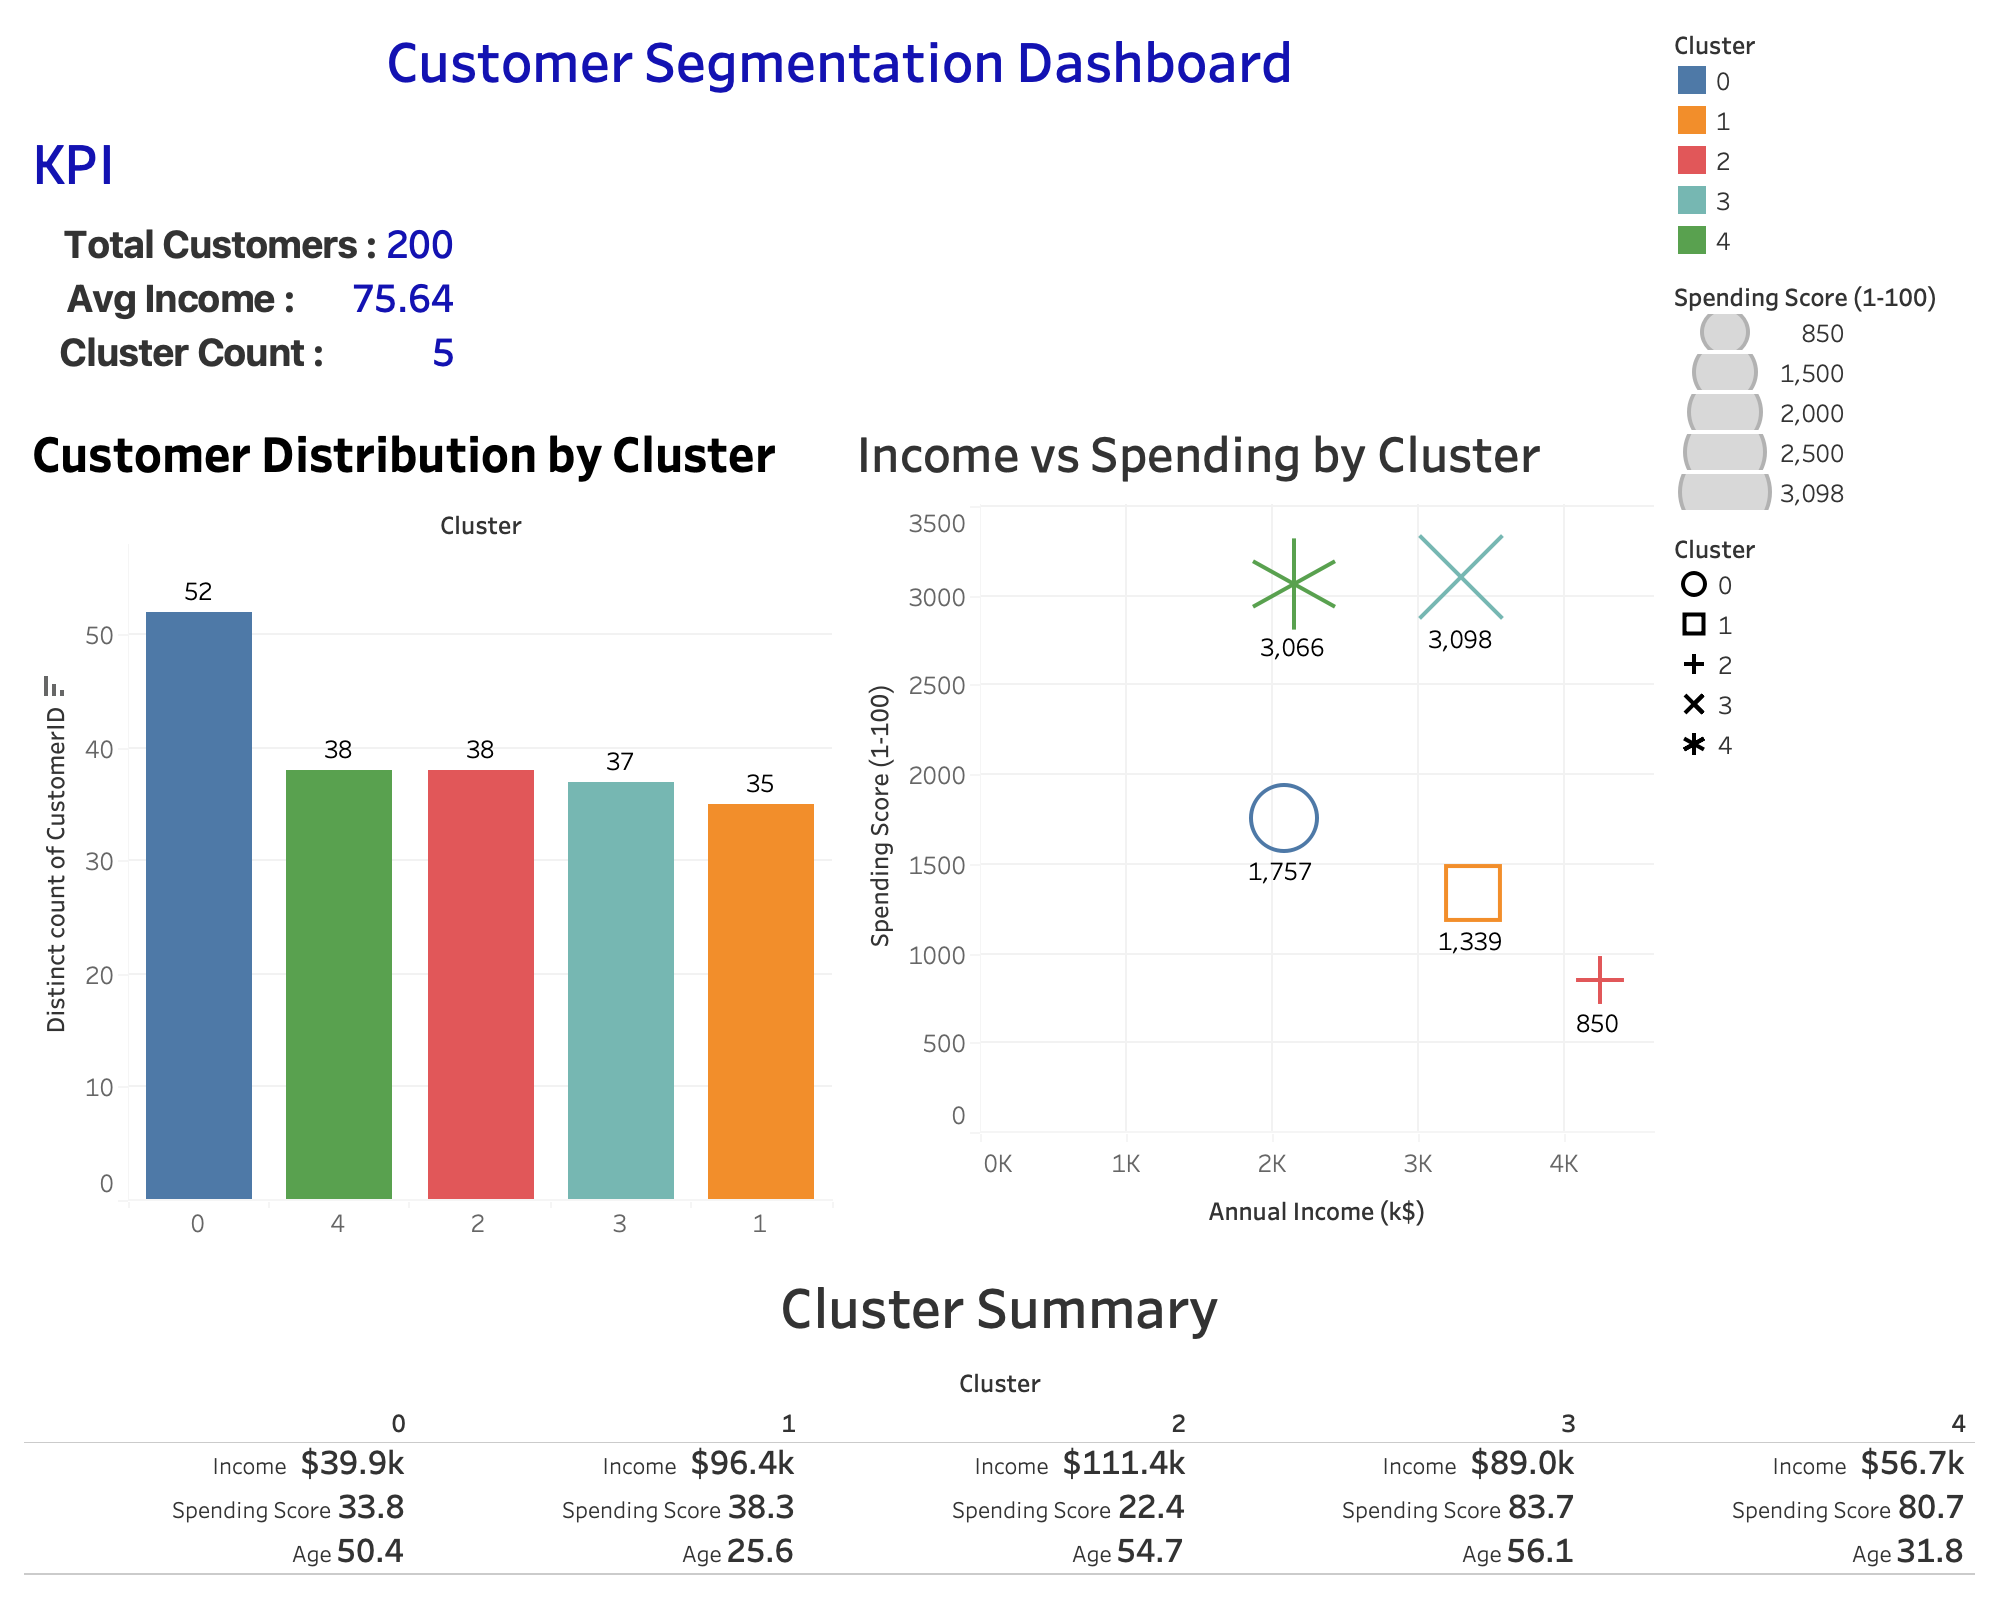

What the dashboard file says about the page in this screenshot:
{"tool":"tableau","page":{"name":"Customer Segmentation Dashboard   ","canvas":[1000,800],"ordinal":0},"visuals":[{"type":"title","box":[8,8,824,45]},{"type":"legend","title":"Cluster Distribution","param":"[federated.0gvg00q1c58z4c19fi03f1oa6vo8].[none:Cluster:ok]","box":[832,8,160,126]},{"type":"worksheet","title":"KPI","mark":"Automatic","box":[8,53,824,147]},{"type":"legend","title":"Income vs Spending by Cluster","param":"[federated.0gvg00q1c58z4c19fi03f1oa6vo8].[sum:Spending Score (1-100):qk]","box":[832,134,160,126]},{"type":"worksheet","title":"Cluster Distribution","mark":"Bar","rows":["CustomerID"],"cols":["Cluster"],"box":[8,200,412,425]},{"type":"worksheet","title":"Income vs Spending by Cluster","mark":"Automatic","rows":["Spending Score (1-100)"],"cols":["Annual Income (k$)"],"box":[420,200,412,425]},{"type":"legend","title":"Income vs Spending by Cluster","param":"[federated.0gvg00q1c58z4c19fi03f1oa6vo8].[none:Cluster:ok]","box":[832,260,160,126]},{"type":"worksheet","title":"Cluster Summary","mark":"Automatic","cols":["Cluster"],"box":[8,625,984,167]}]}

Visuals, with their boxes in screenshot pixels (x1, y1, x2, y2), scaled from the page's 1000x800 canvas onto the 2000x1600 screenshot:
title: 16 16 1664 106
"Cluster Distribution" legend: 1664 16 1984 268
"KPI" worksheet: 16 106 1664 400
"Income vs Spending by Cluster" legend: 1664 268 1984 520
"Cluster Distribution" worksheet (Bar marks): 16 400 840 1250
"Income vs Spending by Cluster" worksheet: 840 400 1664 1250
"Income vs Spending by Cluster" legend: 1664 520 1984 772
"Cluster Summary" worksheet: 16 1250 1984 1584
